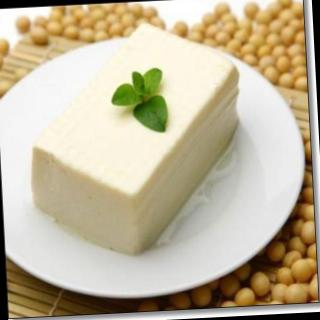Tahu: (5, 16, 268, 272)
